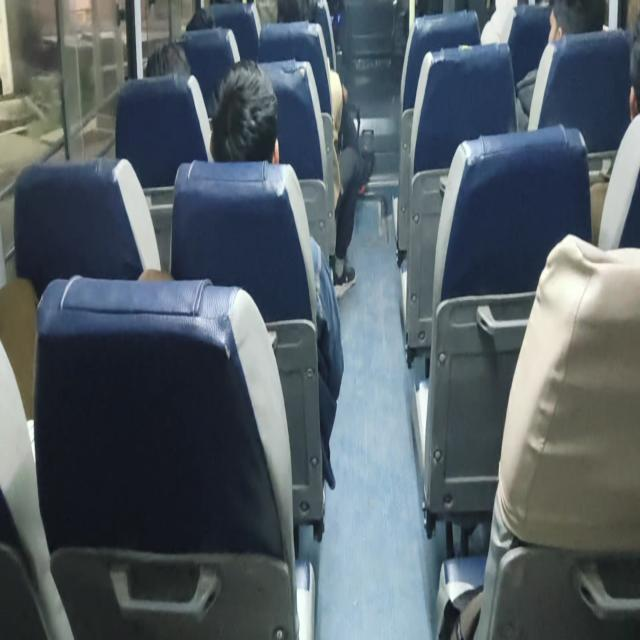person: (208, 58, 344, 488), (255, 0, 372, 298), (515, 0, 605, 129), (209, 58, 280, 164), (144, 40, 192, 78)
